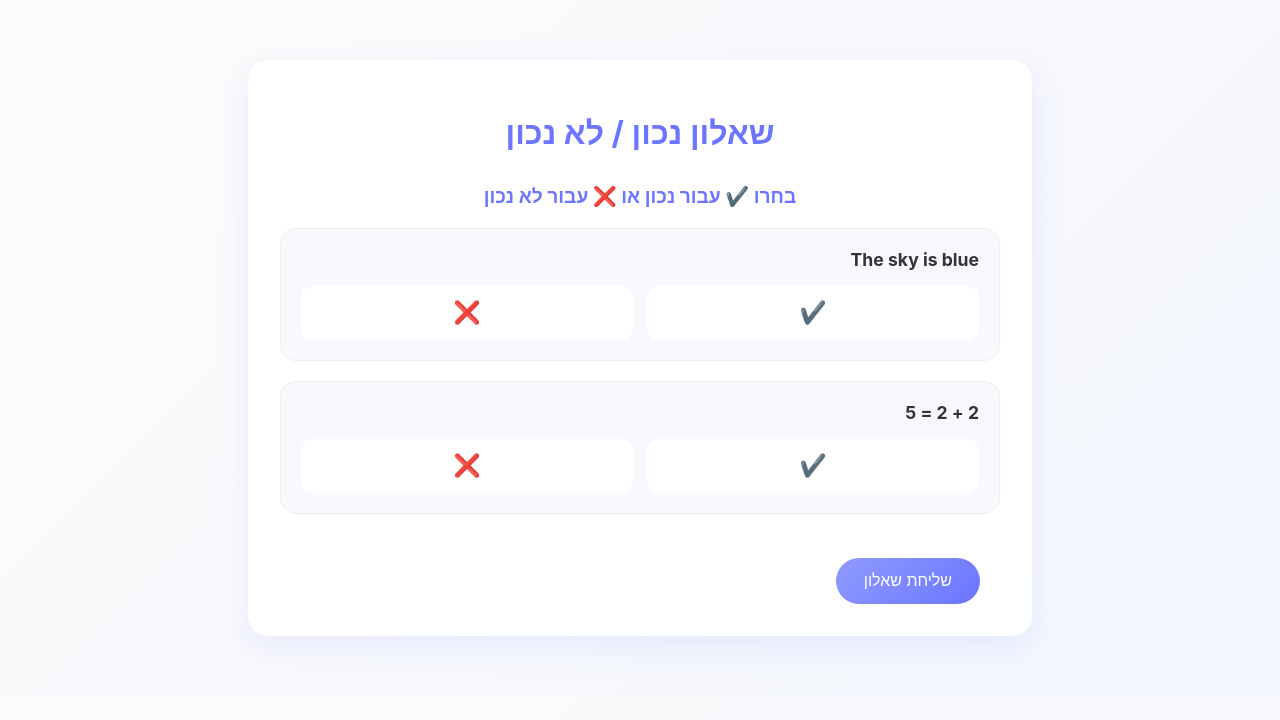
Test: TrueFalseQuizPage Component › marks correct and wrong answers
The width and height of the screenshot is (1280, 720).
Click the button "✔️" below "The sky is blue". click: x=813, y=313
box: x1=647 y1=286 x2=979 y2=340
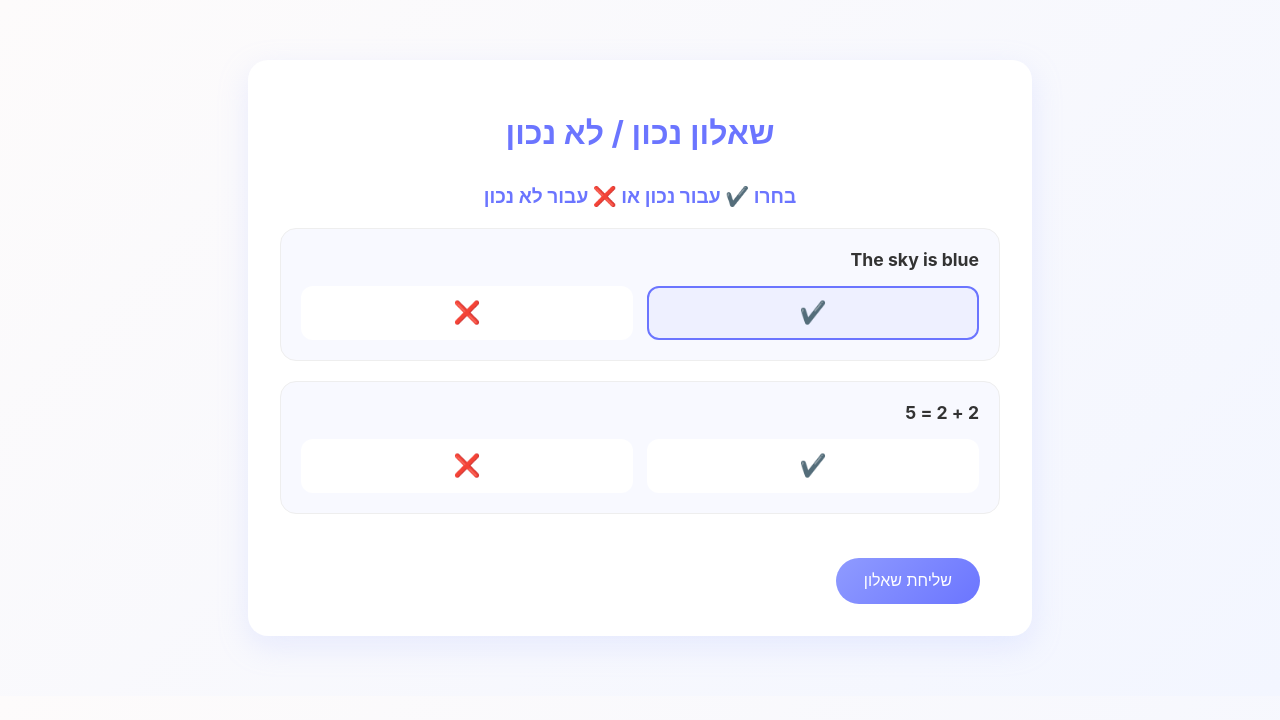
Click the button "✔️" below "2 + 2 = 5". click: x=813, y=466
box: x1=647 y1=439 x2=979 y2=493
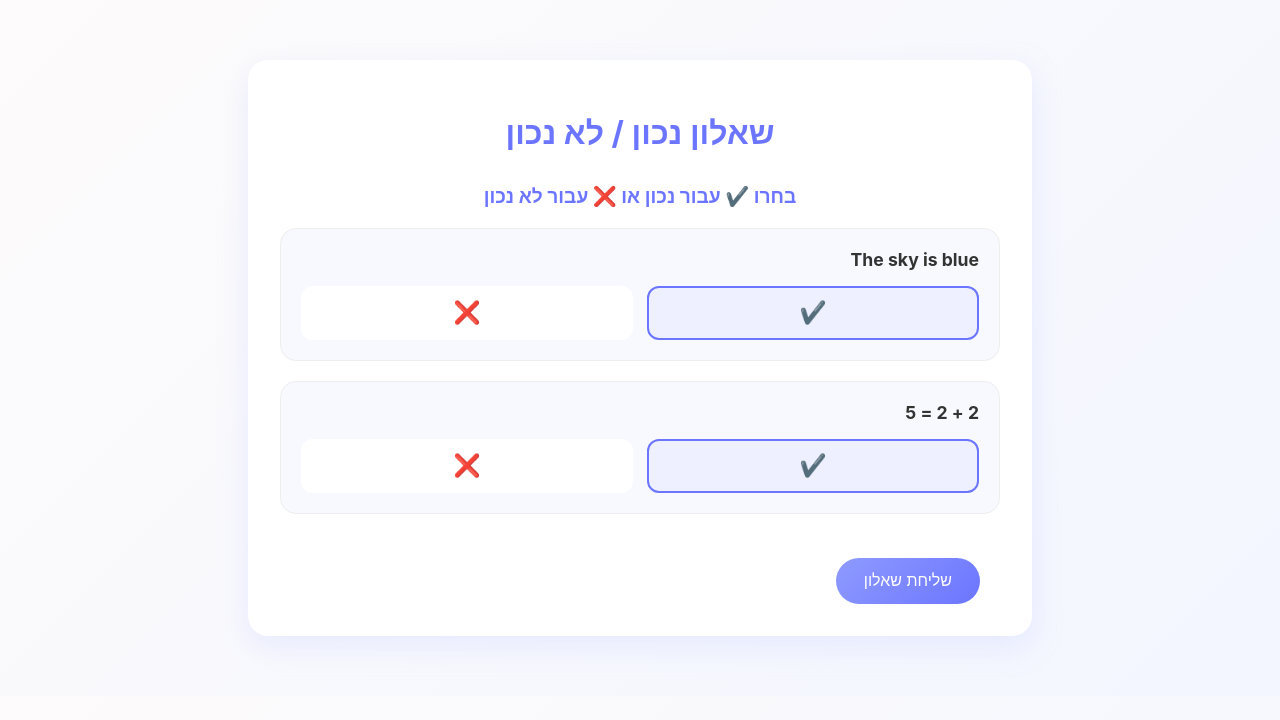
Click the button "שליחת שאלון". click: x=908, y=581
box: x1=836 y1=558 x2=980 y2=604
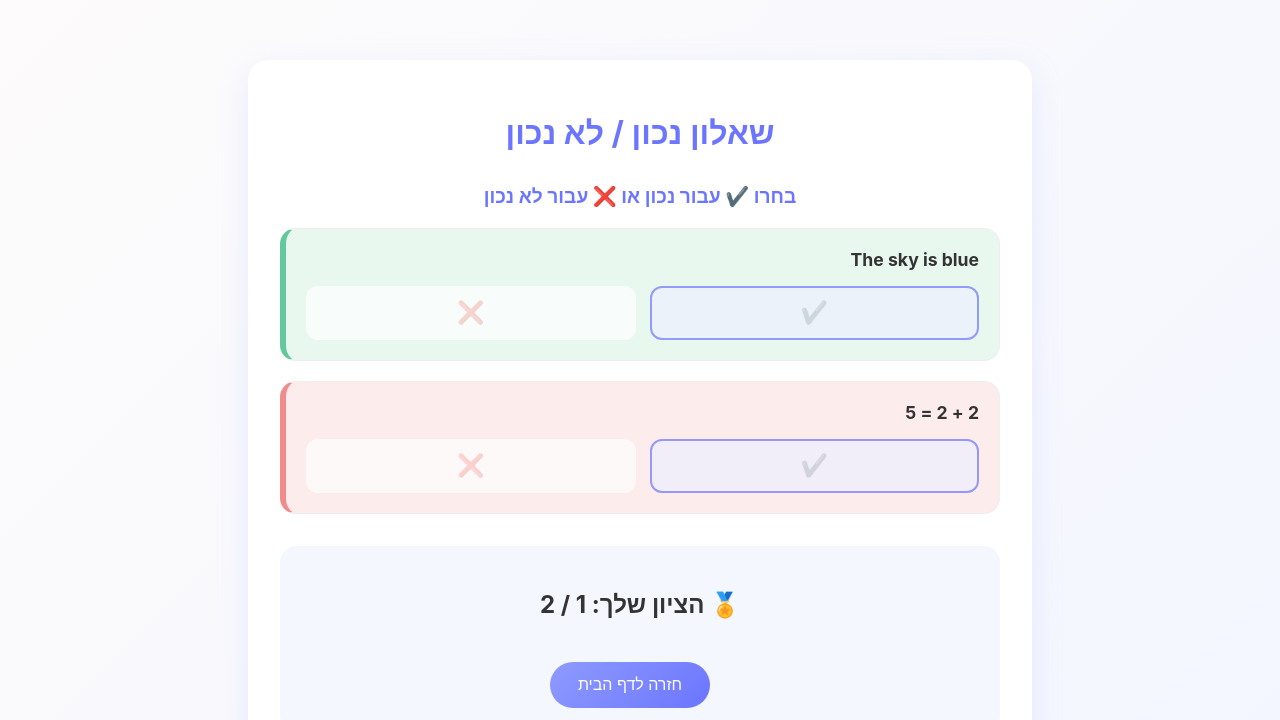
Now the heading "🏅 הציון שלך: 1 / 2" is shown, box x1=540 y1=590 x2=740 y2=618
